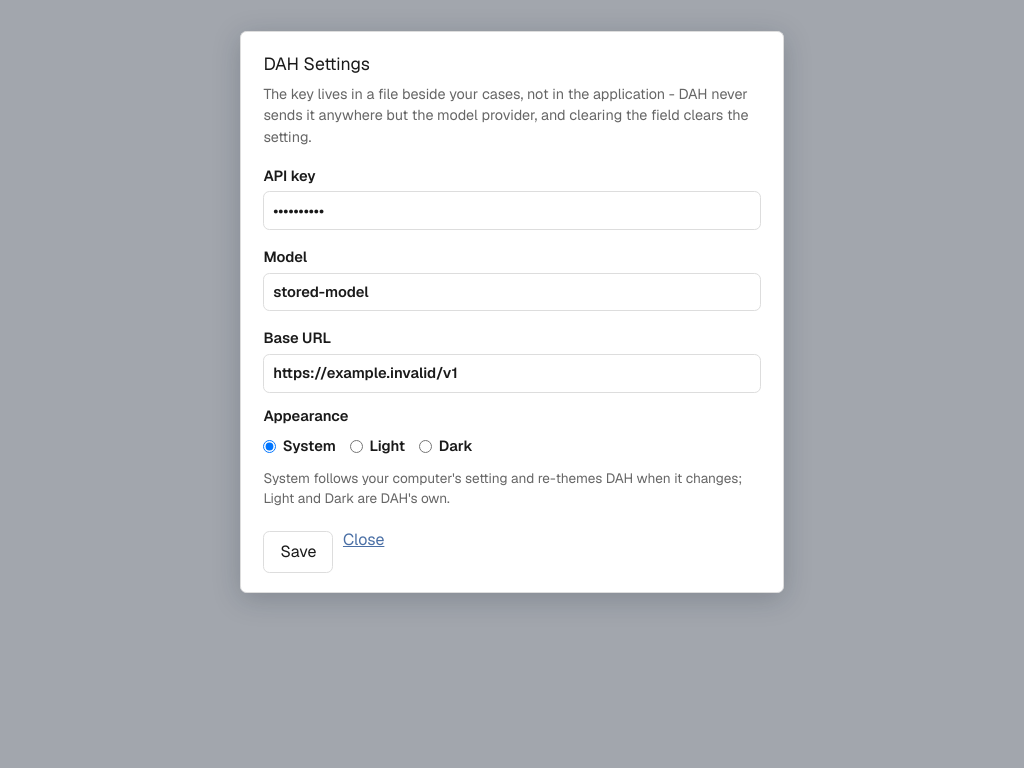
Test: LlmSettingsPanel › writes the three fields and says the features will use them
Type "new-key" into the password field with placeholder "sk-…" at (512, 211), box top-left (263, 191), bottom-right (761, 230)
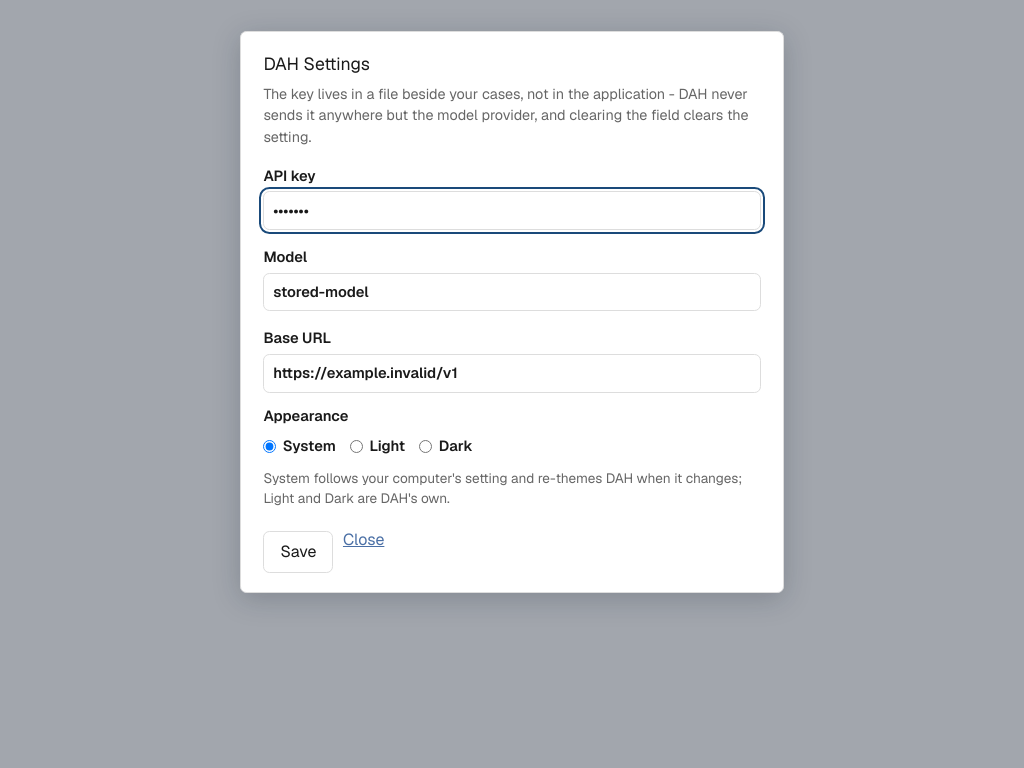
Click the button "Save" at (298, 552), box top-left (263, 531), bottom-right (333, 573)
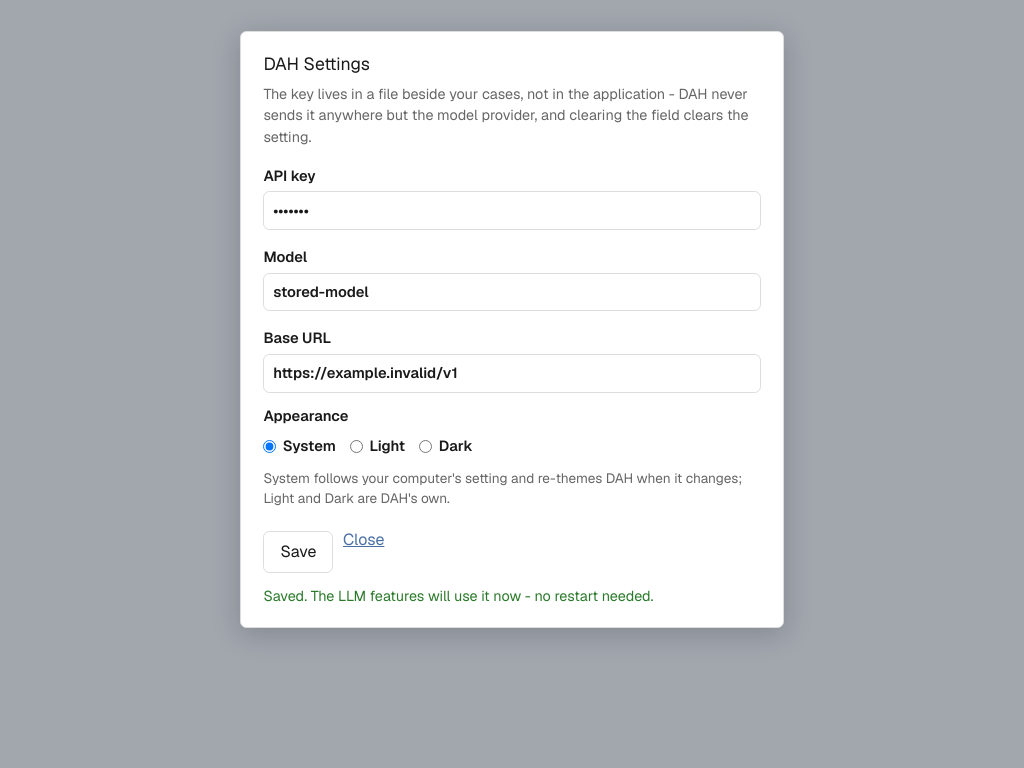
Now the text "Saved. The LLM features will use it now - no restart needed." is shown, box top-left (263, 587), bottom-right (654, 605)
